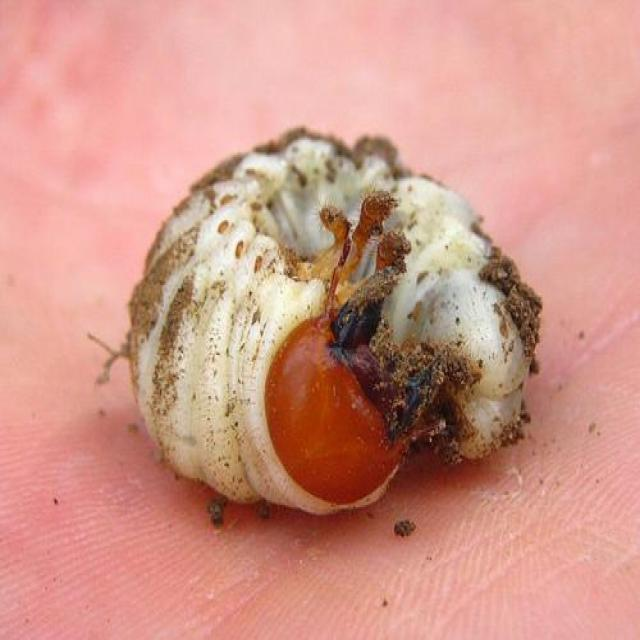Grub-Adult-: (123, 119, 557, 538)
